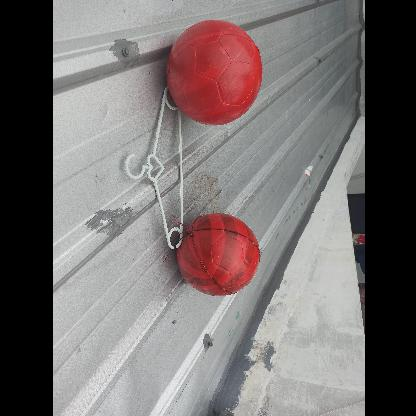red_ball: (161, 20, 264, 124), (176, 212, 258, 296)
